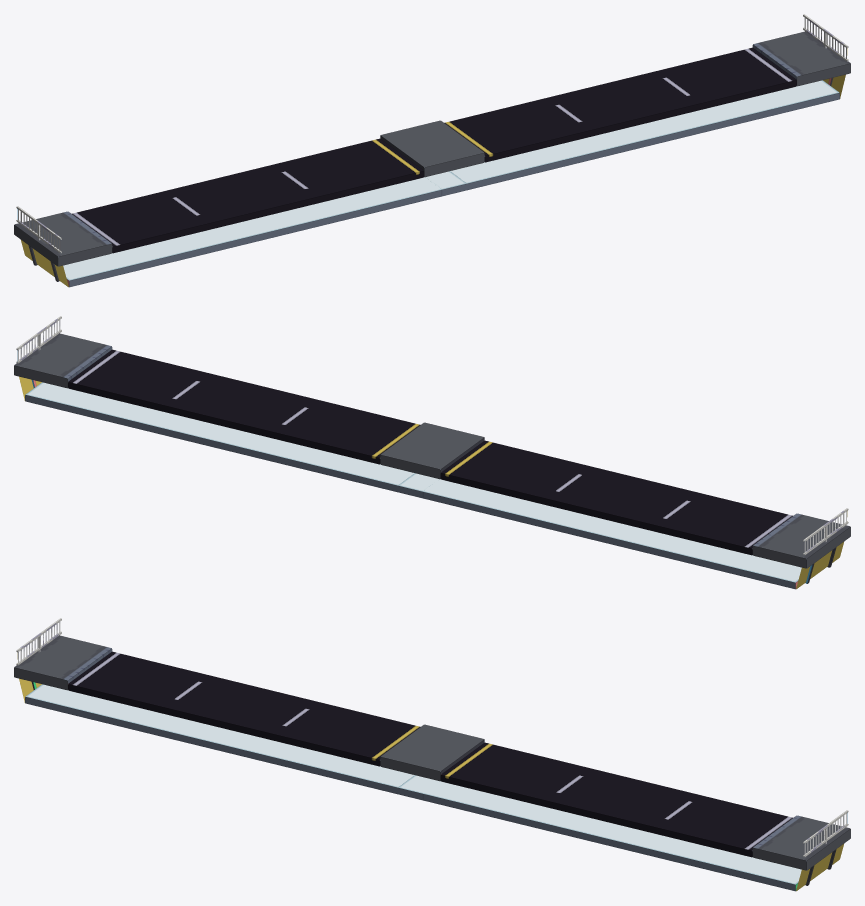
The model's file is Motorway_Bridge.obj.
The picture shows the model from 3 angles, top to bottom: view 1: azimuth 30°, elevation 25°; view 2: azimuth 150°, elevation 25°; view 3: azimuth 330°, elevation 25°; orthographic projection.
Parts seen in each view (by area): view 1: cuboid, plane; view 2: cuboid, plane; view 3: cuboid, plane.
Boxes of the visible parts, <box> form: cuboid: <box>14,14,850,287</box>; plane: <box>21,74,845,287</box>; cuboid: <box>14,316,850,589</box>; plane: <box>19,376,843,589</box>; cuboid: <box>14,618,850,891</box>; plane: <box>19,678,843,891</box>.
Size of the model in its own units: 31.12 by 1.98 by 3.
1 material, 1 textured.
